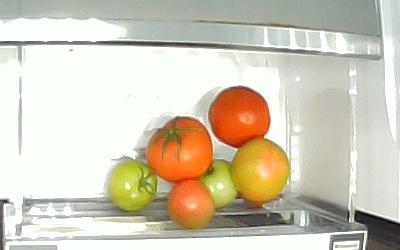tomato: (145, 116, 213, 183), (207, 84, 271, 149), (230, 136, 289, 203), (107, 160, 158, 212), (167, 179, 215, 229), (196, 159, 237, 209)
